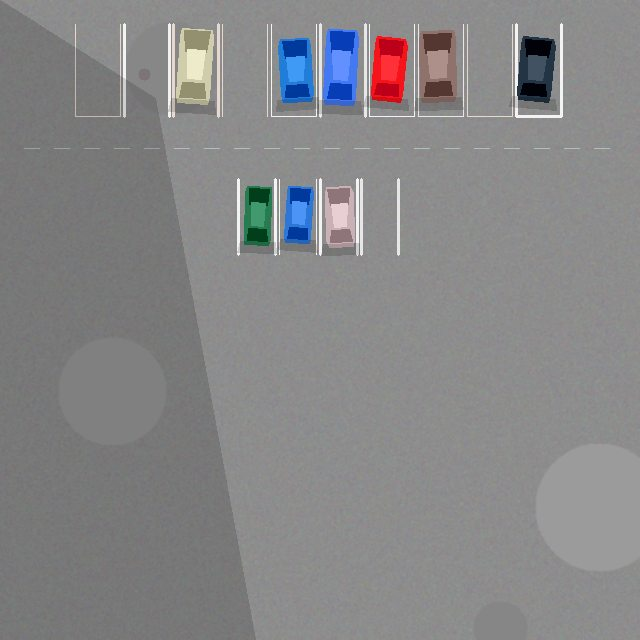space-empty: (75, 24, 120, 116), (124, 24, 169, 116), (222, 24, 267, 116), (467, 24, 512, 116), (361, 179, 398, 254)
space-occupied: (173, 24, 218, 116), (271, 24, 316, 116), (320, 24, 365, 116), (369, 24, 414, 116), (418, 24, 463, 116), (516, 24, 561, 116), (238, 179, 275, 254), (279, 179, 316, 254), (320, 179, 357, 254)
